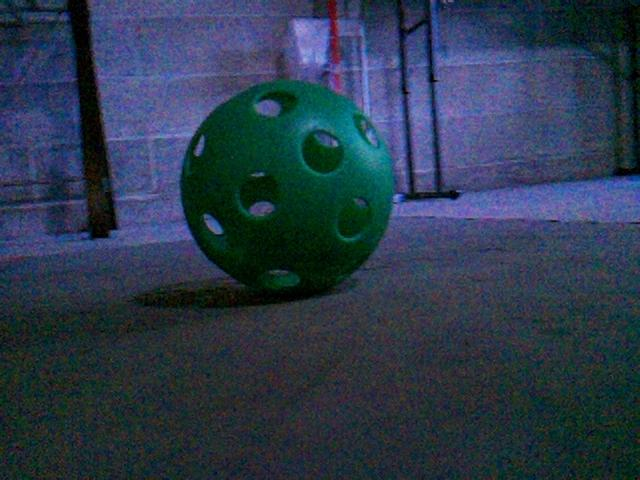Green: (175, 78, 398, 298)
